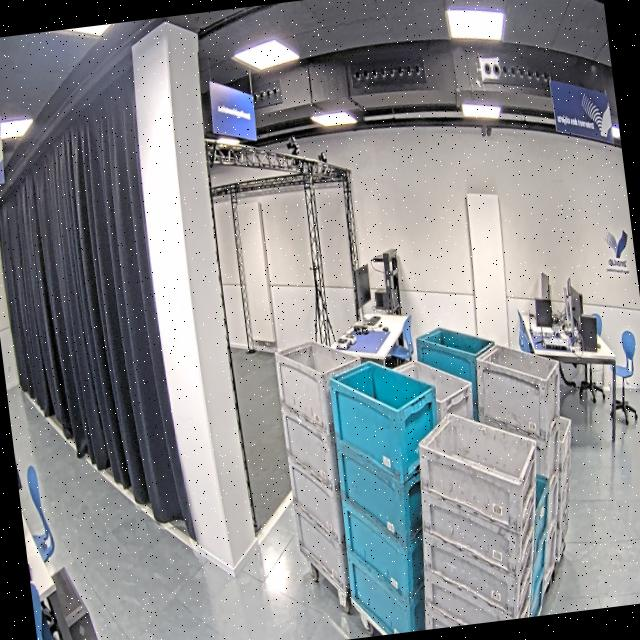Box3G: (411, 402, 547, 538), (418, 474, 547, 588), (420, 516, 539, 622), (420, 555, 536, 629)
Box4G: (466, 336, 569, 448), (272, 331, 366, 436), (389, 350, 476, 437), (280, 400, 346, 494), (287, 444, 349, 542), (290, 499, 350, 594)
BoxB4: (326, 352, 446, 494), (330, 432, 430, 556), (334, 489, 431, 604), (341, 544, 434, 637), (410, 323, 498, 392)
